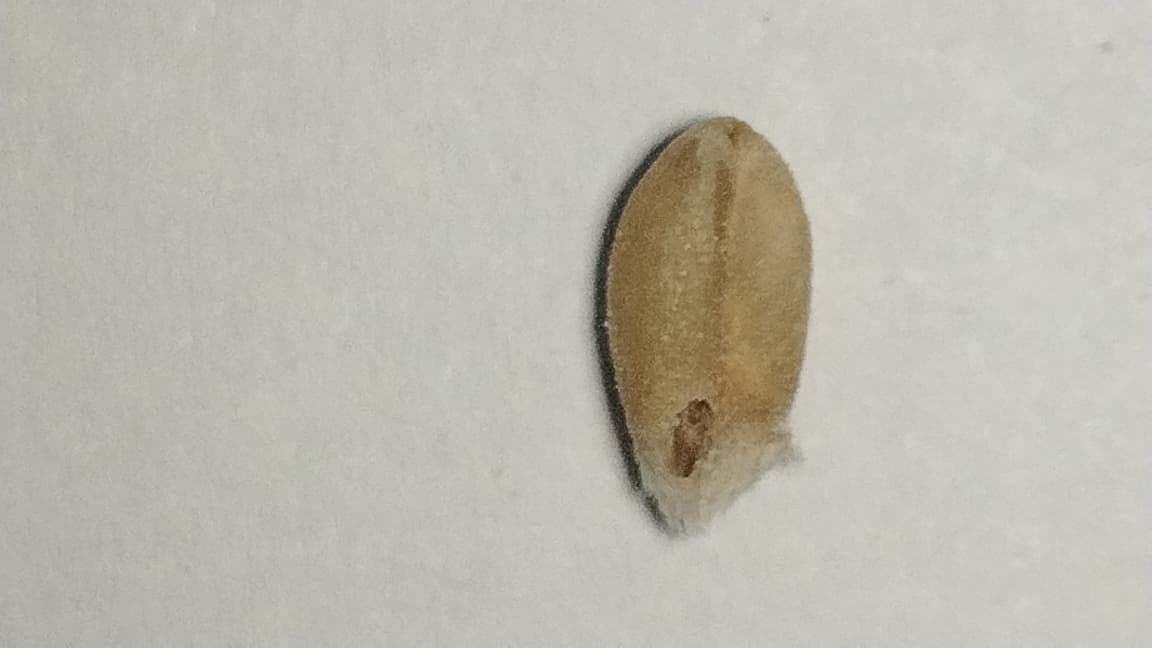damage: (606, 117, 810, 529)
insectdamage: (637, 370, 713, 494)
